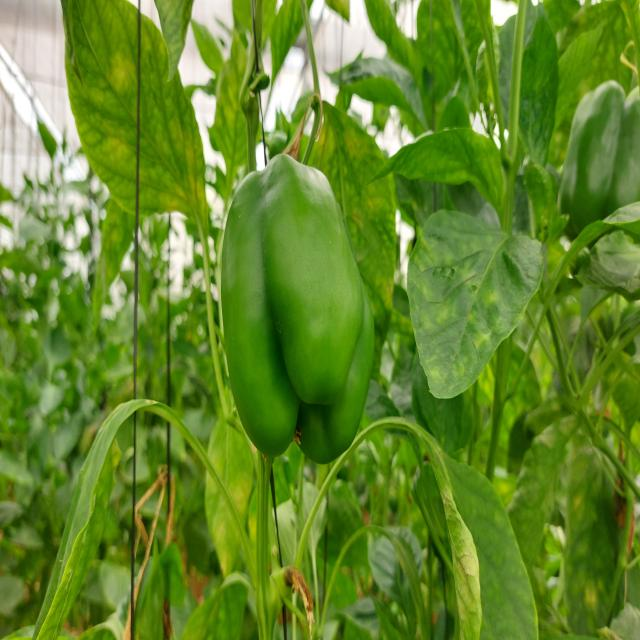Green--Not-ready-to-harvest: (218, 159, 376, 469), (560, 84, 640, 249)
